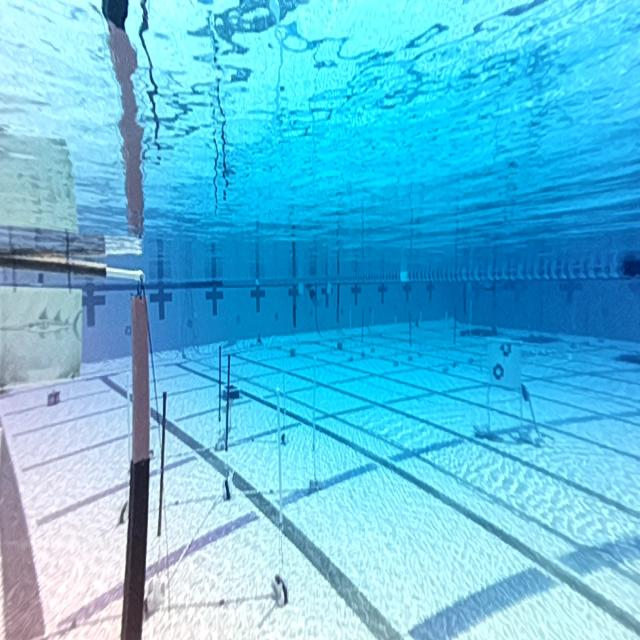pointed_nose: (0, 283, 82, 376)
